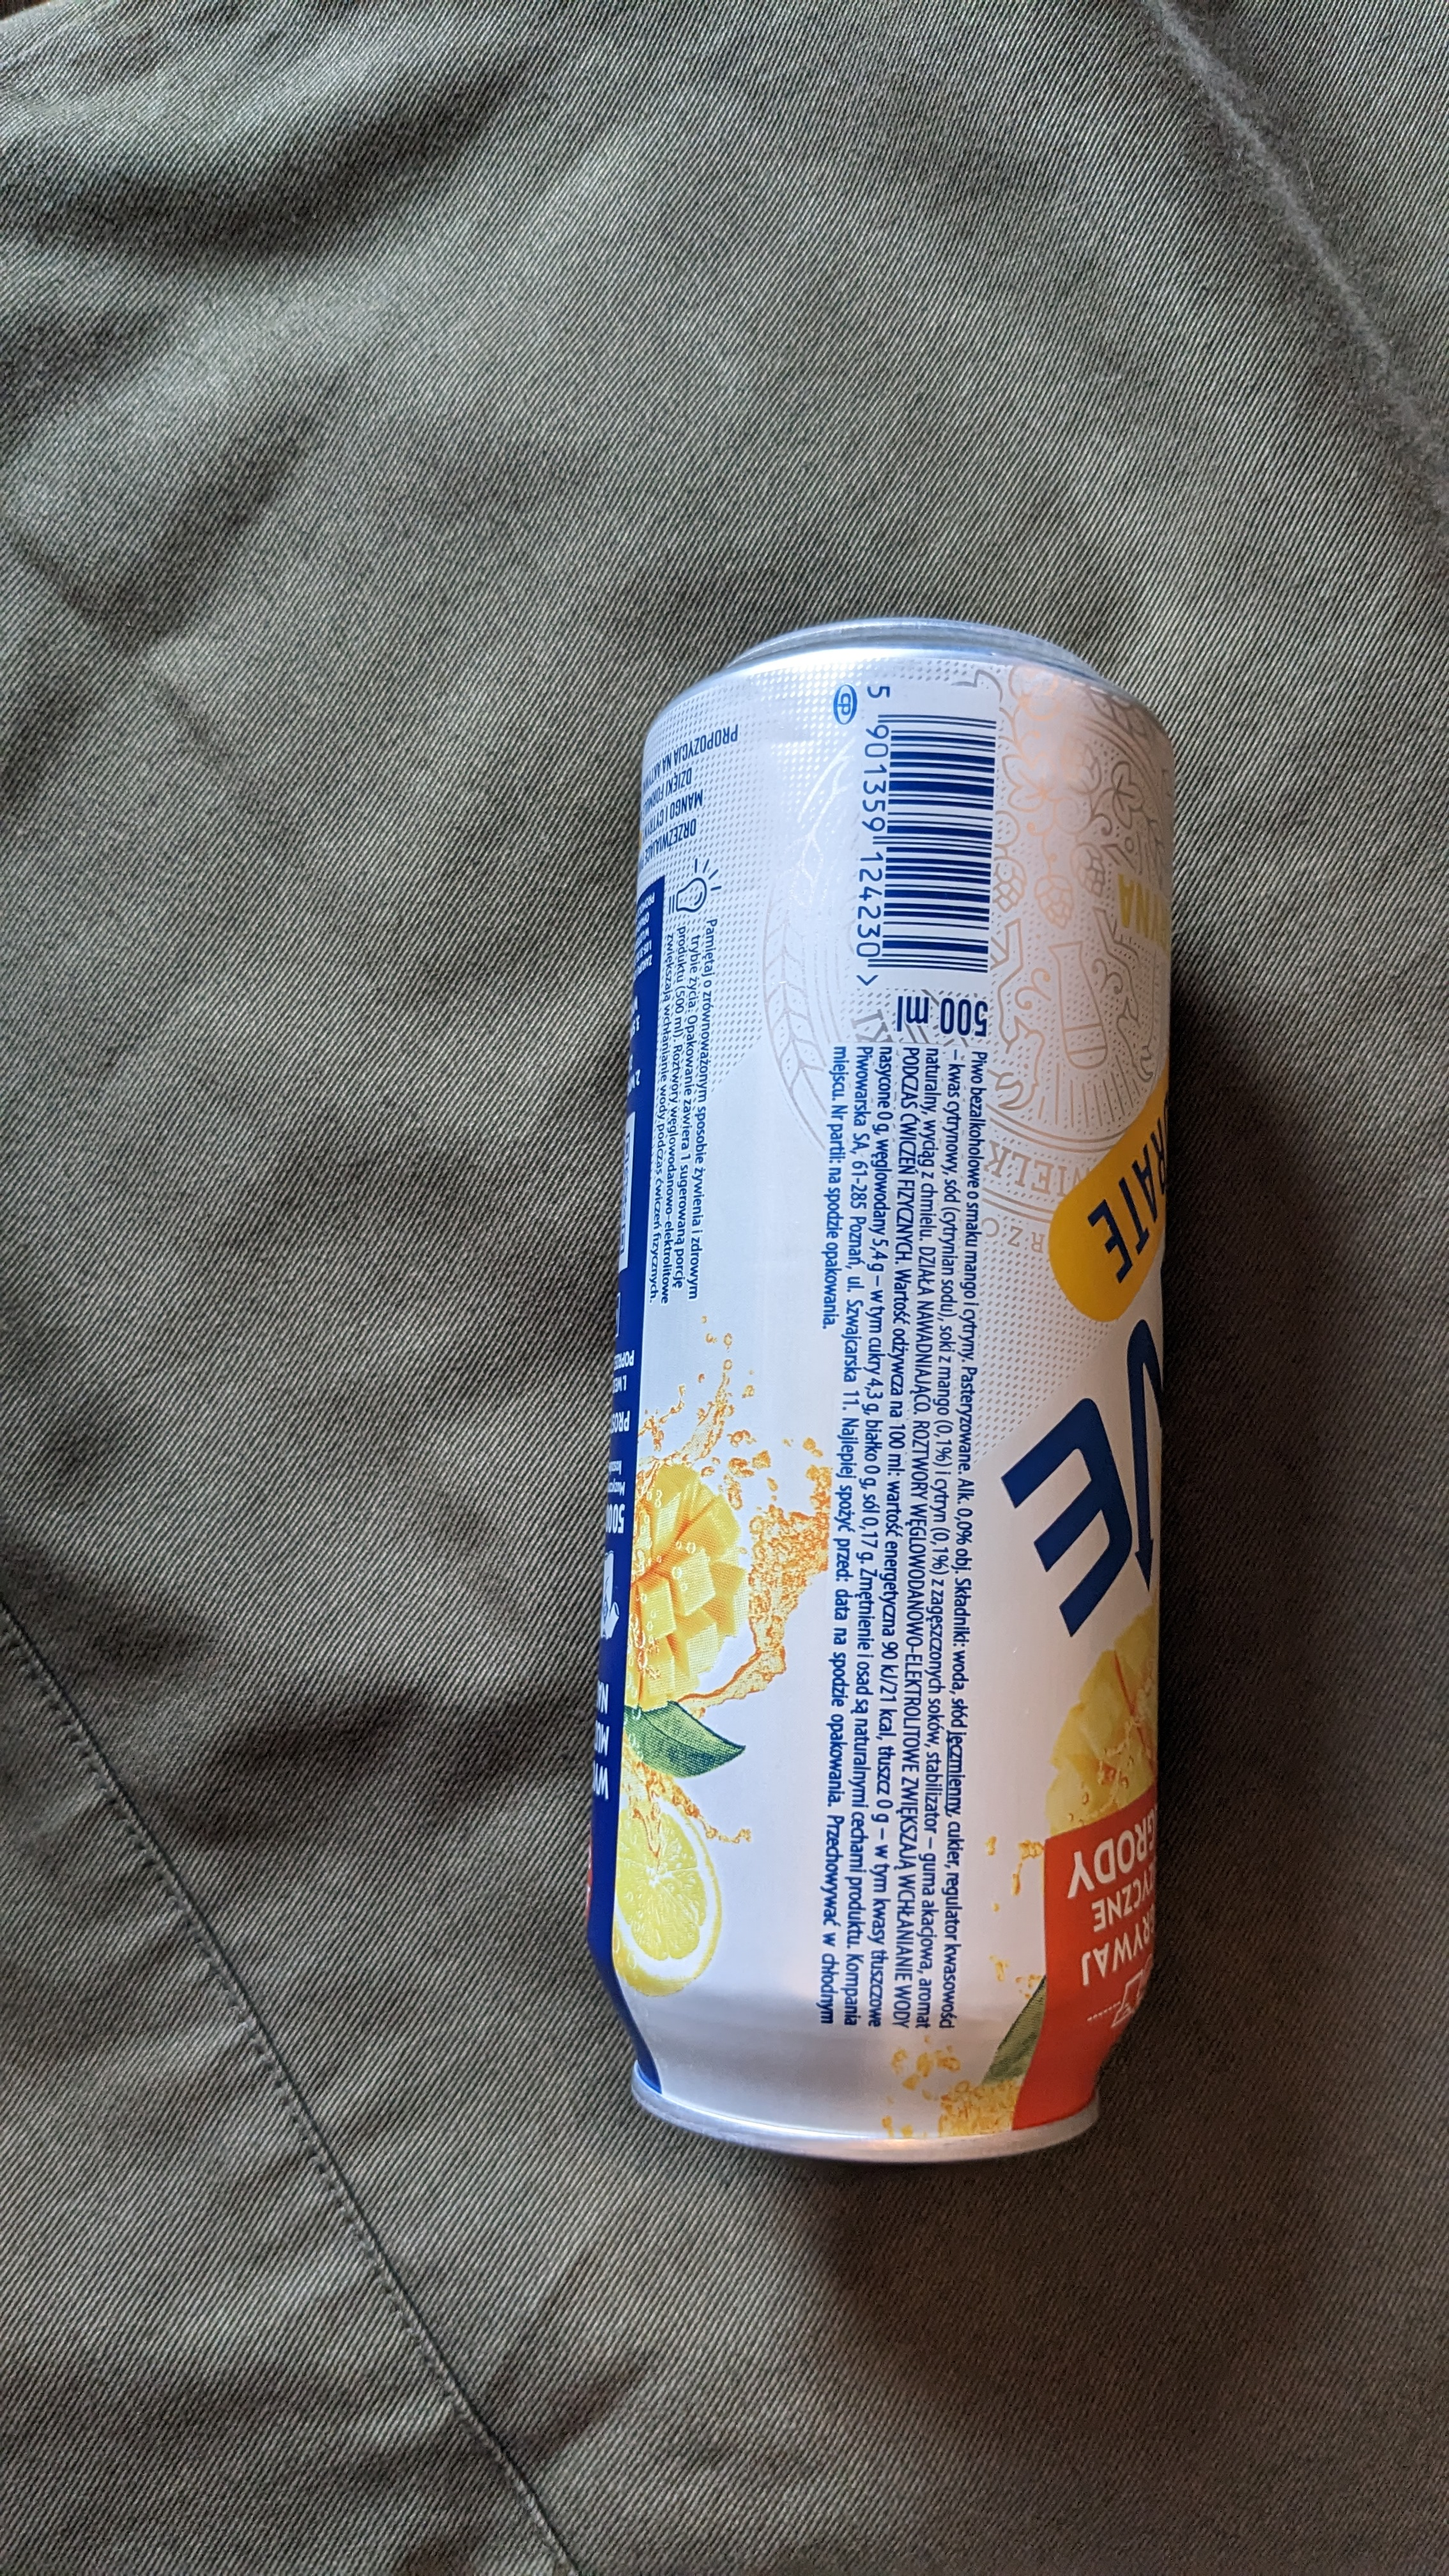lech-active: (586, 591, 1194, 2194)
